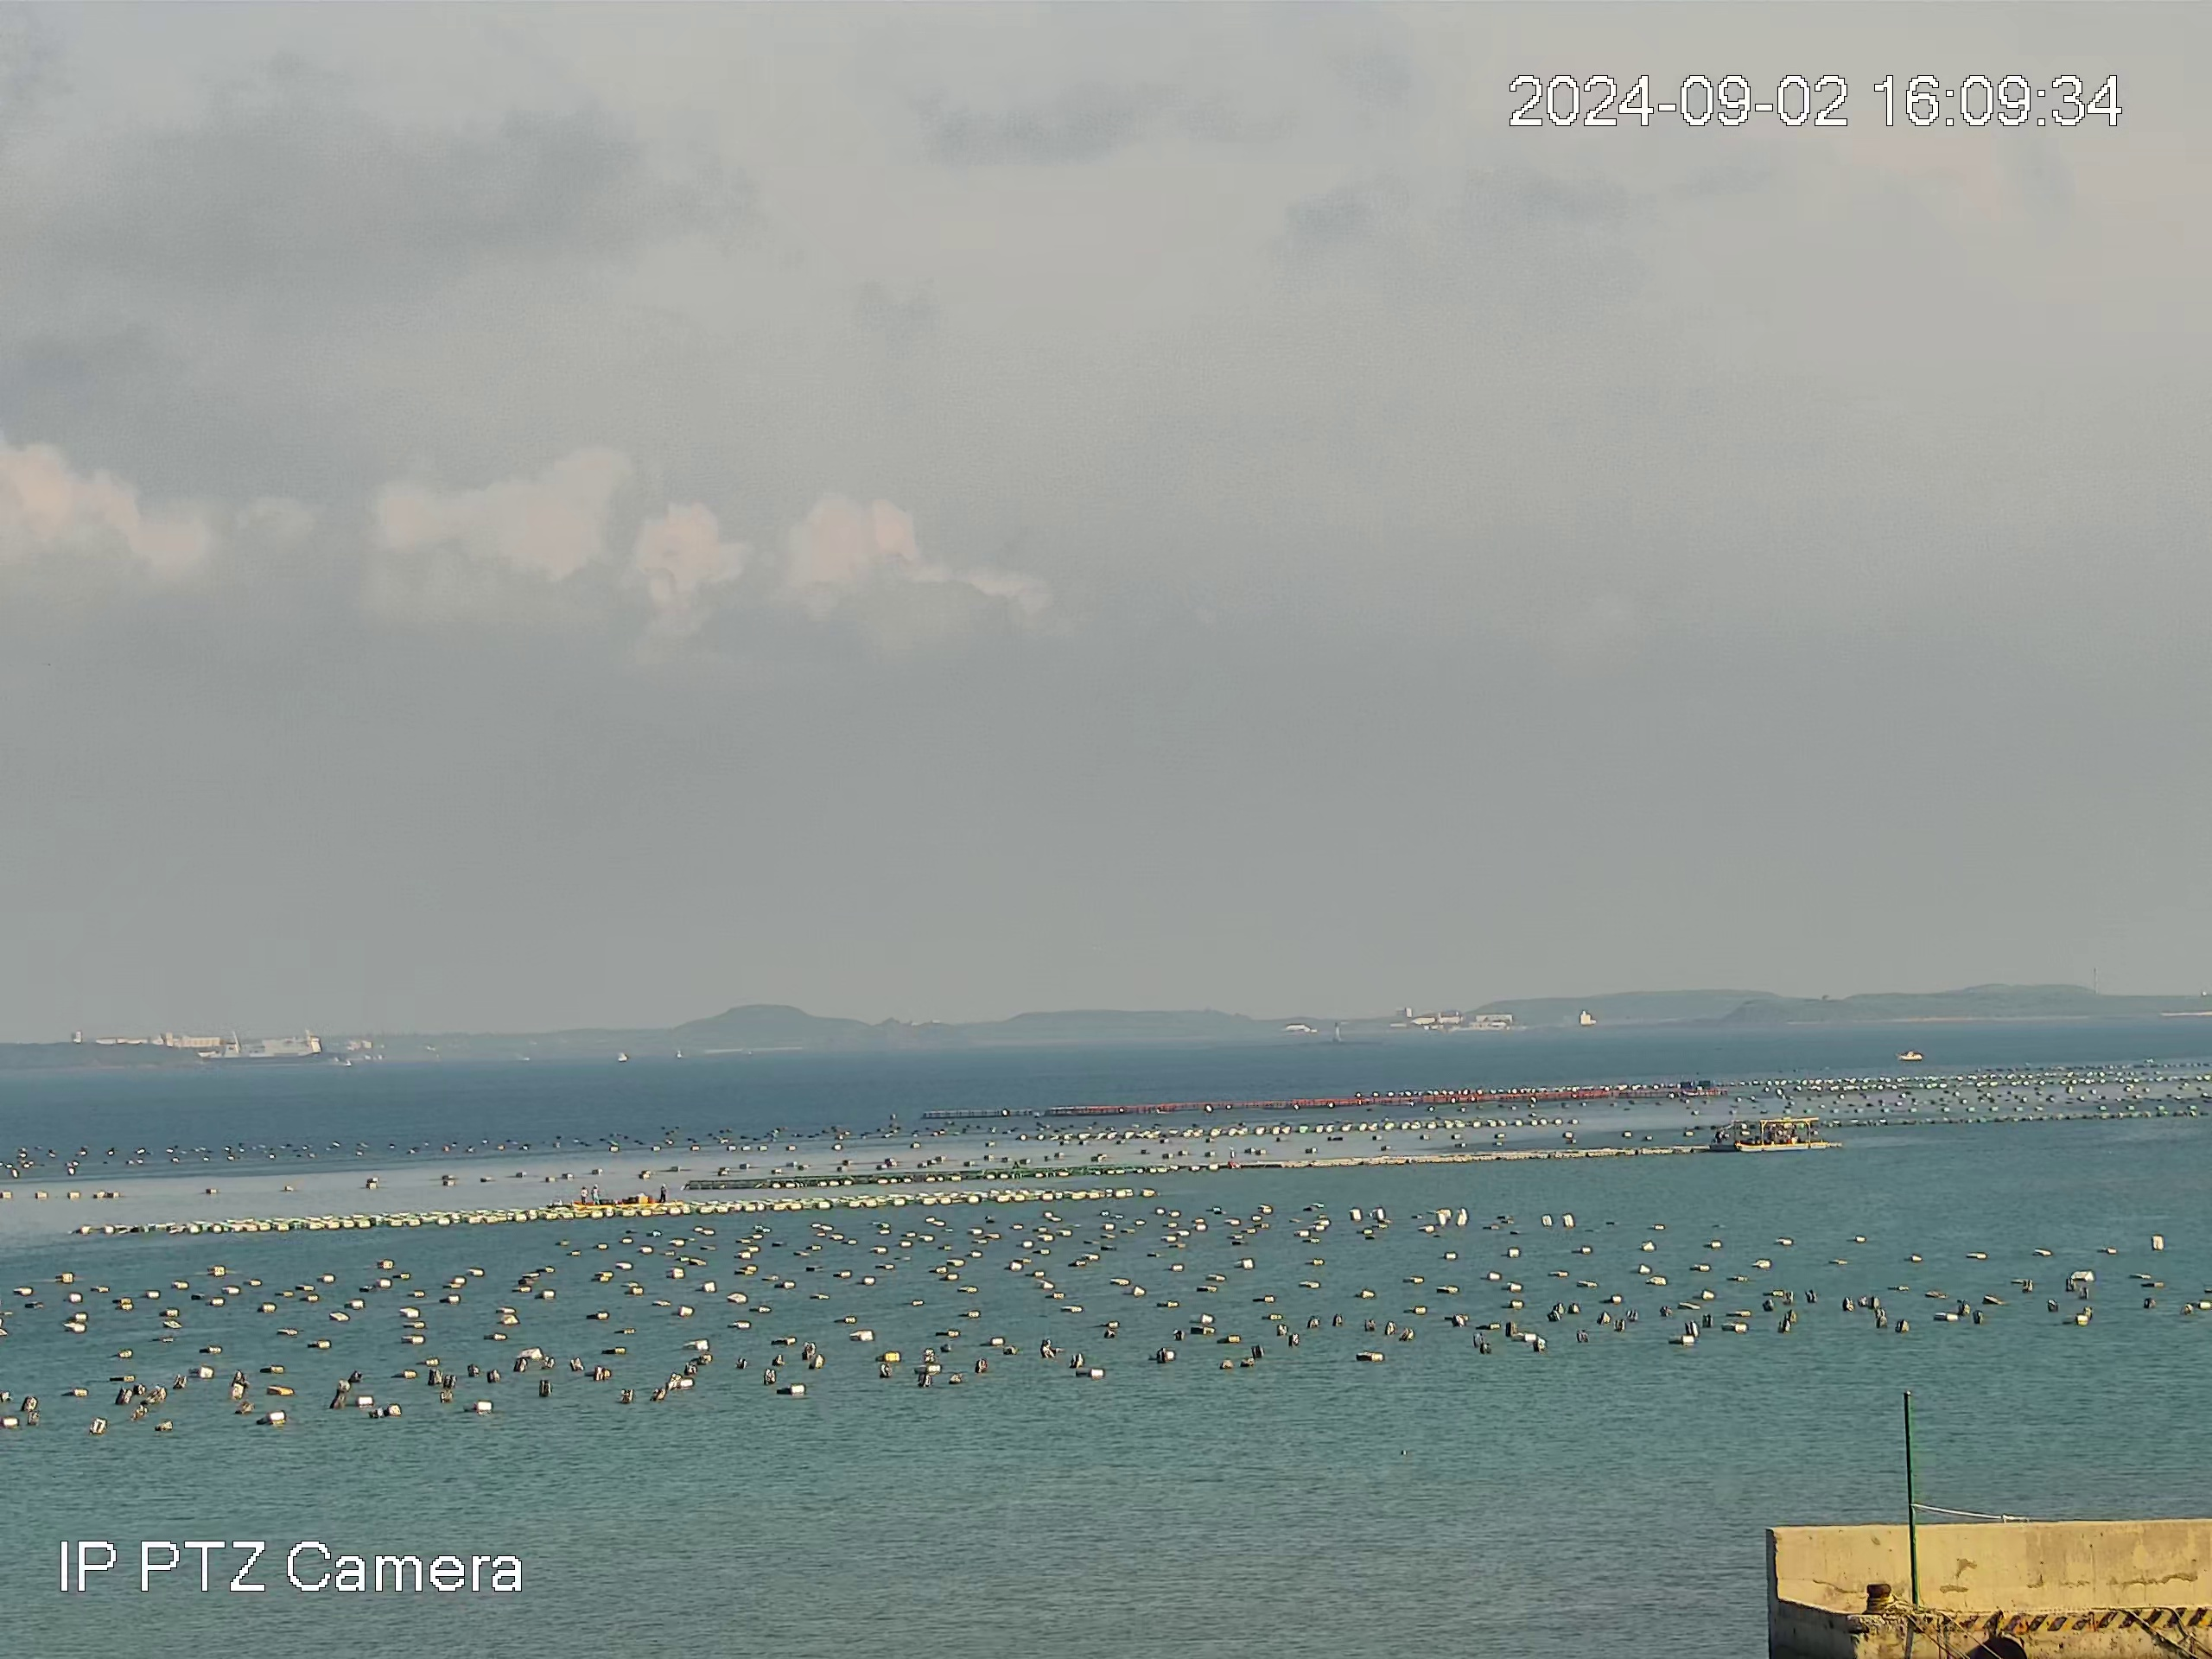boat: (196, 1034, 350, 1066), (1733, 1116, 1828, 1153), (569, 1184, 683, 1210), (1894, 1049, 1923, 1062)
